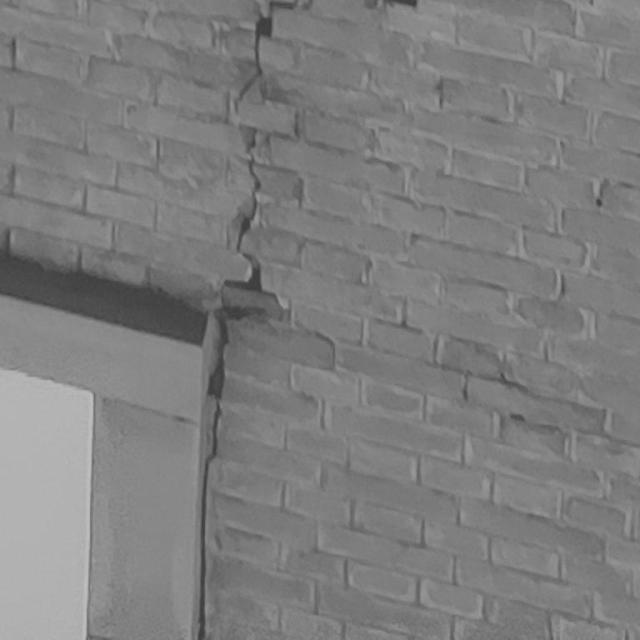crack: (197, 1, 298, 639)
